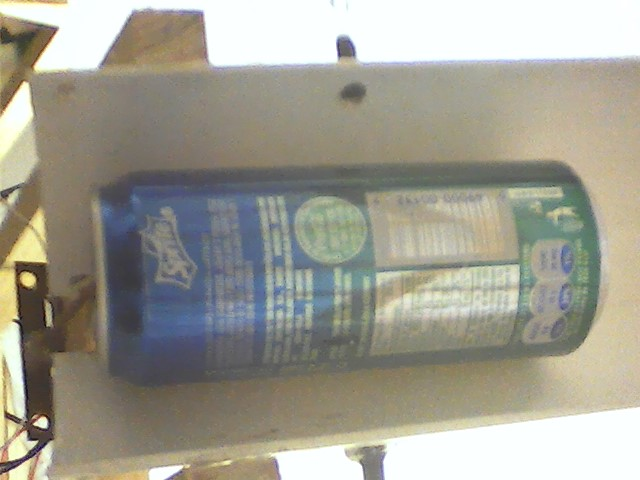lata: (80, 153, 615, 394)
